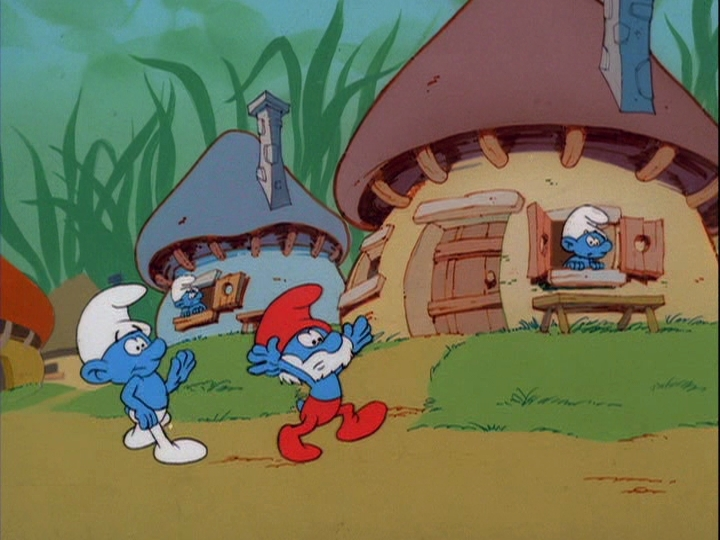smurf: (70, 280, 210, 467), (247, 281, 389, 464), (553, 200, 618, 274), (166, 274, 209, 319)
